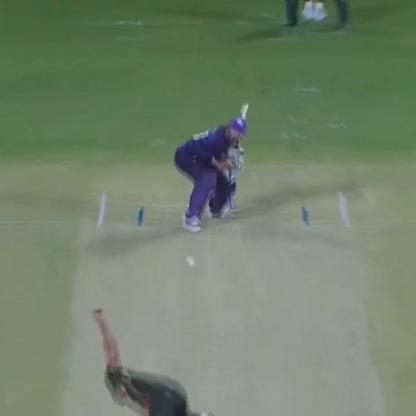ball: (186, 258, 197, 268), (184, 256, 193, 258)
pitch: (62, 189, 364, 415)
